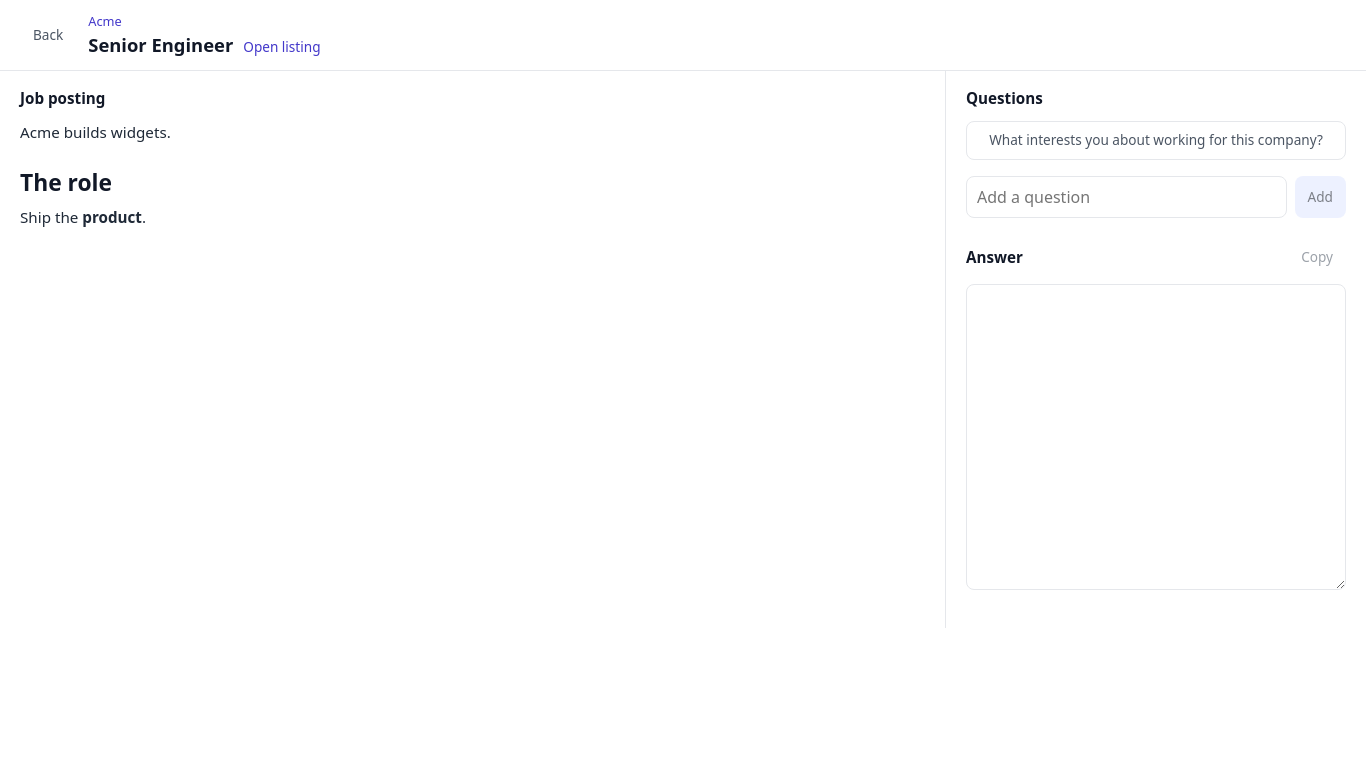
Test: adds a new question and generates its answer
This screenshot has width=1366, height=768.
Check: the button "What interests you about working for this company?" is shown, box [966,121,1346,160]
In the field with placeholder "Add a question": (1126, 197) [966,176,1287,218], type "Why this role?"
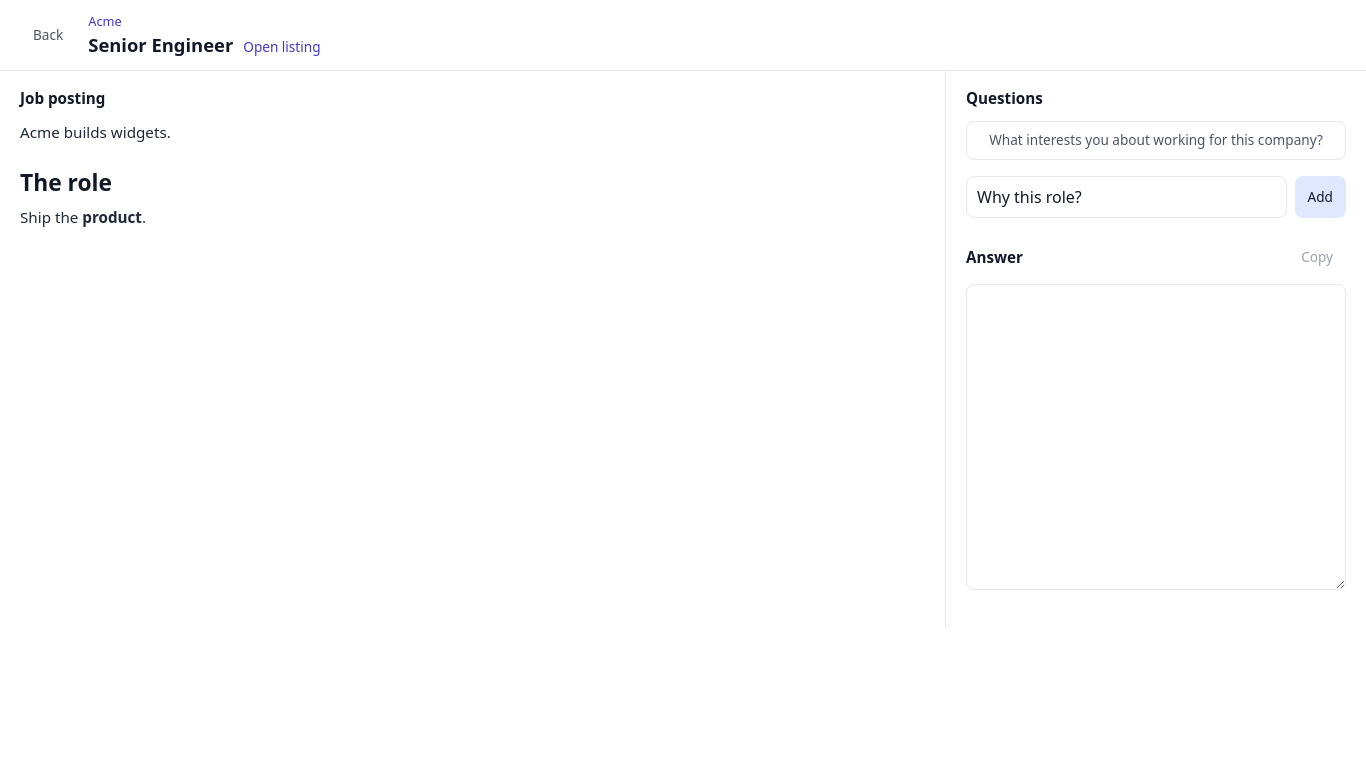
Click the button "Add": (1320, 197) [1295,176,1346,218]
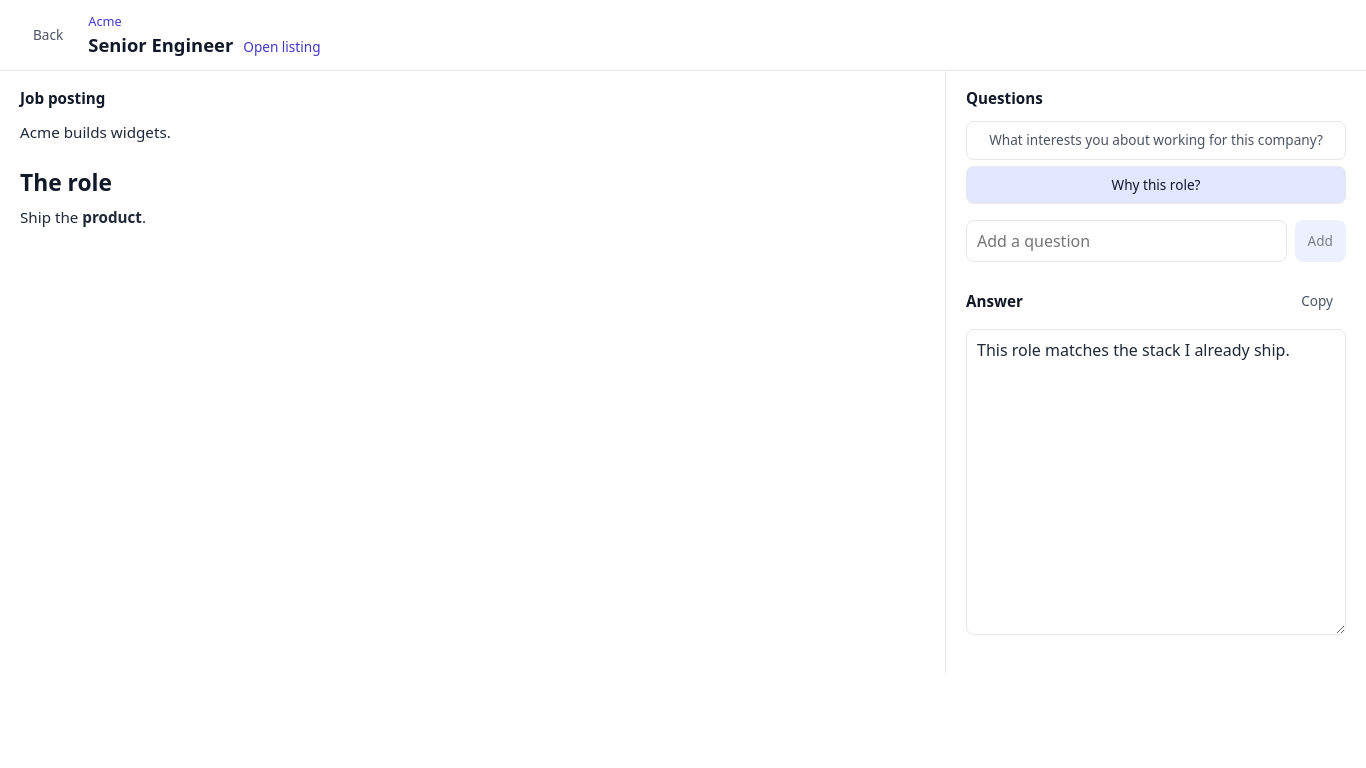
Check: the button "Why this role?" is shown, box [966,166,1346,204]
Check: the text box named "Answer" holds "This role matches the stack I already ship.", box [966,328,1346,634]
